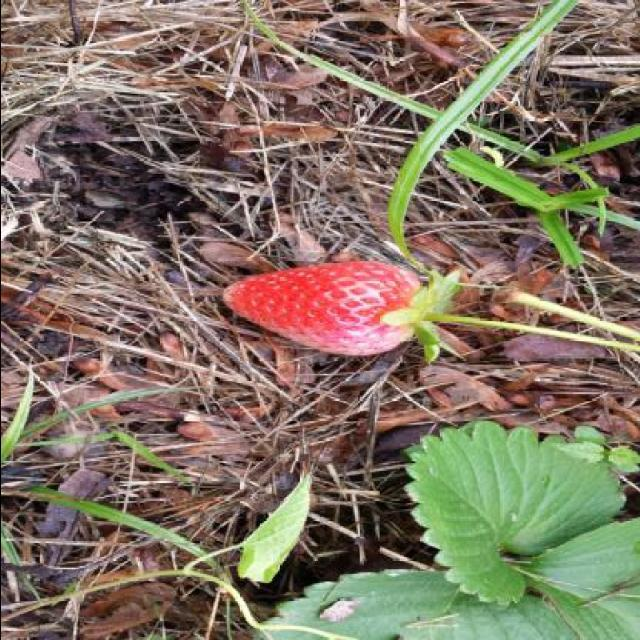Strawberry: (226, 258, 448, 356)
